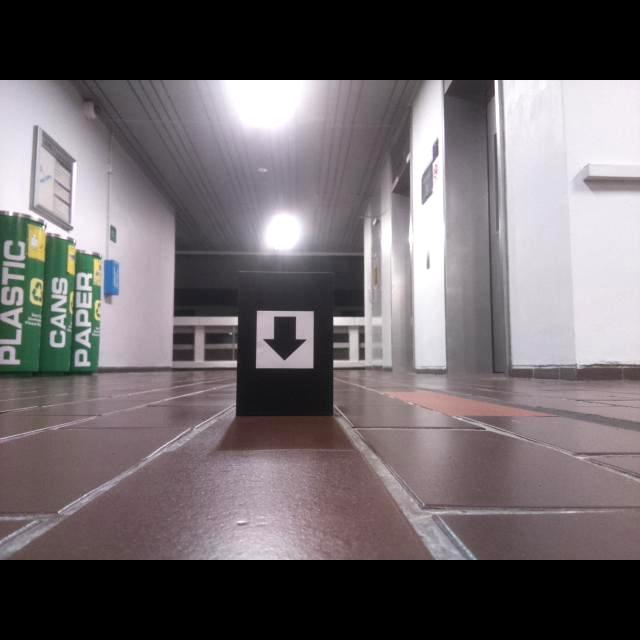DOWN: (261, 316, 308, 362)
